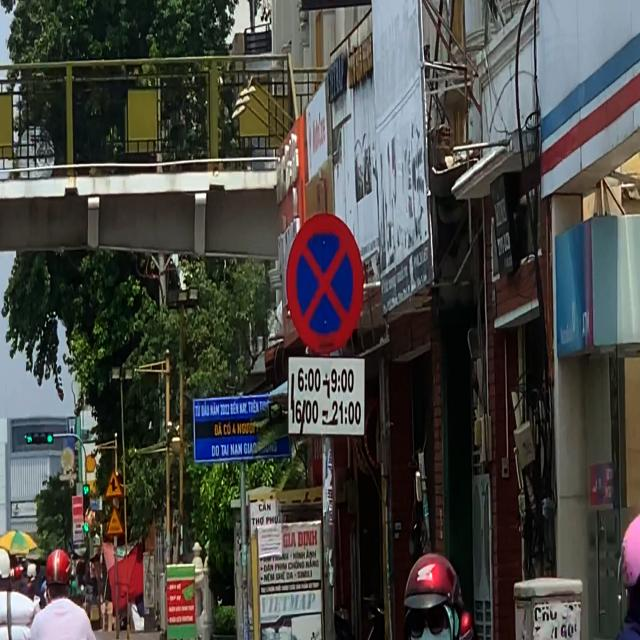Cam dung va do: (286, 212, 364, 355)
Giao voi duong khong uu tien: (105, 469, 124, 499)
Nguy hiem: (106, 505, 124, 536)
